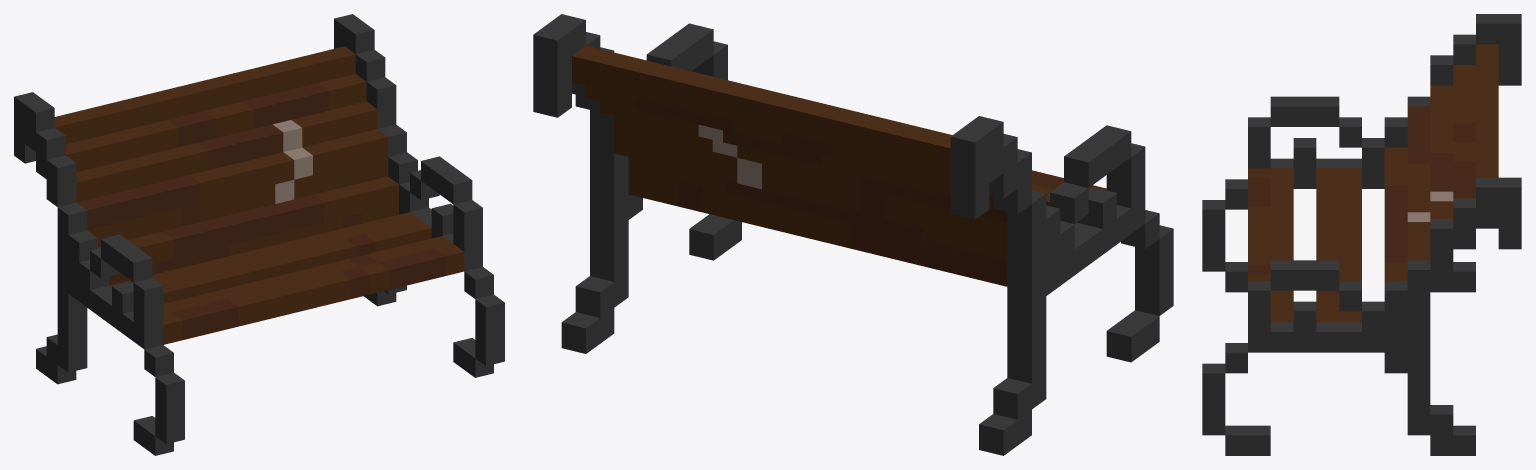
The model's file is TESTOWANIE_VOXELA-7.obj.
3 views of the same model, side by side, from view 1: azimuth 30°, elevation 25°; view 2: azimuth 150°, elevation 25°; view 3: azimuth 270°, elevation 25° (orthographic). The views are drawn at different scales.
Size of the model in its own units: 1.8 by 1.3 by 1.4.
1 material, 1 textured.
